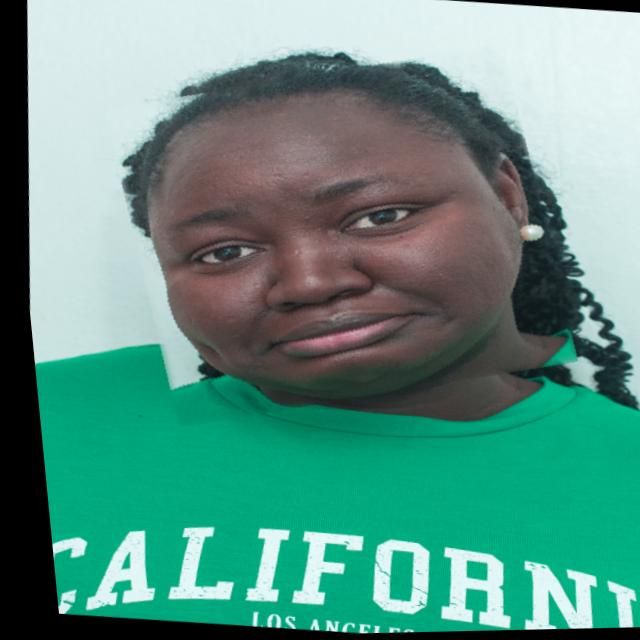sad: (86, 32, 586, 442)
